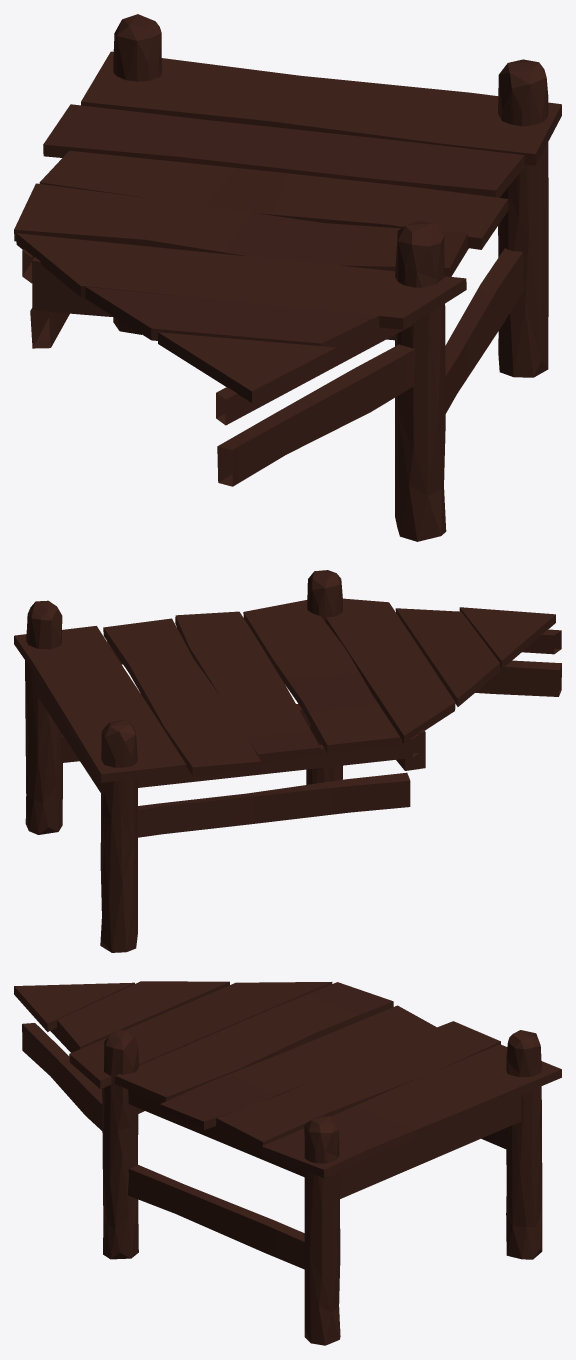
File: port_wooden_bridge_a_corner.FBX
3 views of the same model, one above another, from view 1: azimuth 30°, elevation 25°; view 2: azimuth 150°, elevation 25°; view 3: azimuth 270°, elevation 25° (orthographic). The views are drawn at different scales.
Visible parts, largest first — view 1: port_wooden_bridge_a_corner; view 2: port_wooden_bridge_a_corner; view 3: port_wooden_bridge_a_corner.
Boxes of the visible parts, x1,y1,x2,y2 form: port_wooden_bridge_a_corner: [14, 14, 561, 541]; port_wooden_bridge_a_corner: [14, 570, 561, 952]; port_wooden_bridge_a_corner: [14, 981, 561, 1345].
Size of the model in its own units: 488 by 260 by 591.
